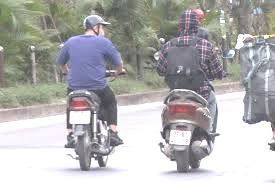Bien-so: (65, 112, 86, 127), (162, 132, 183, 147)
